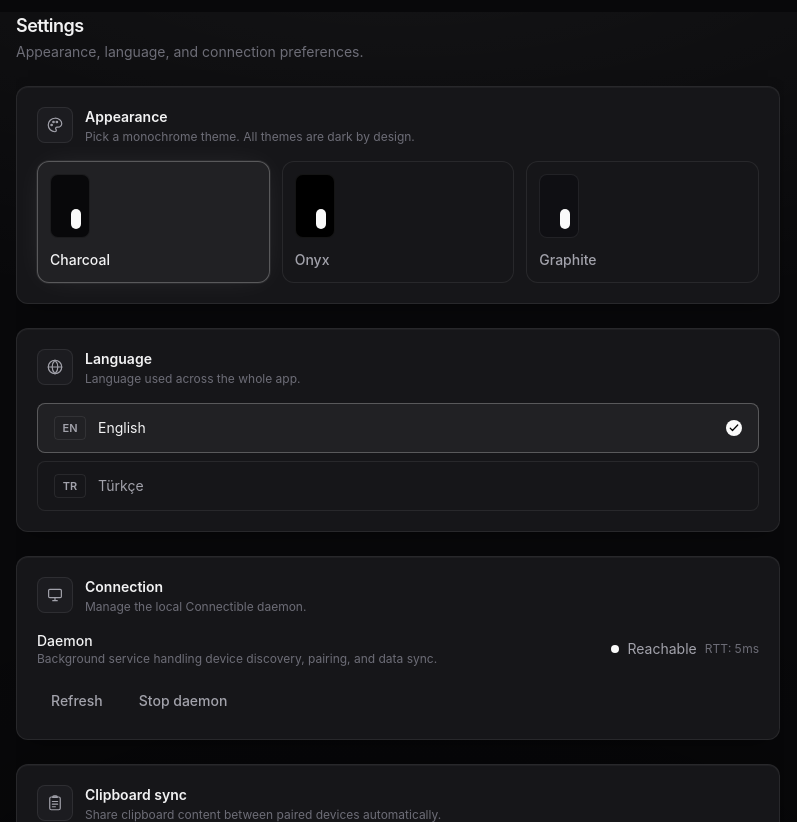
Scenario: SettingsPanel › shows an externally-managed notice when Stop had no process of its own to kill (T-X11)
The width and height of the screenshot is (797, 822).
Click the button "Stop daemon": x=183, y=701 top-left (125, 683), bottom-right (242, 719)
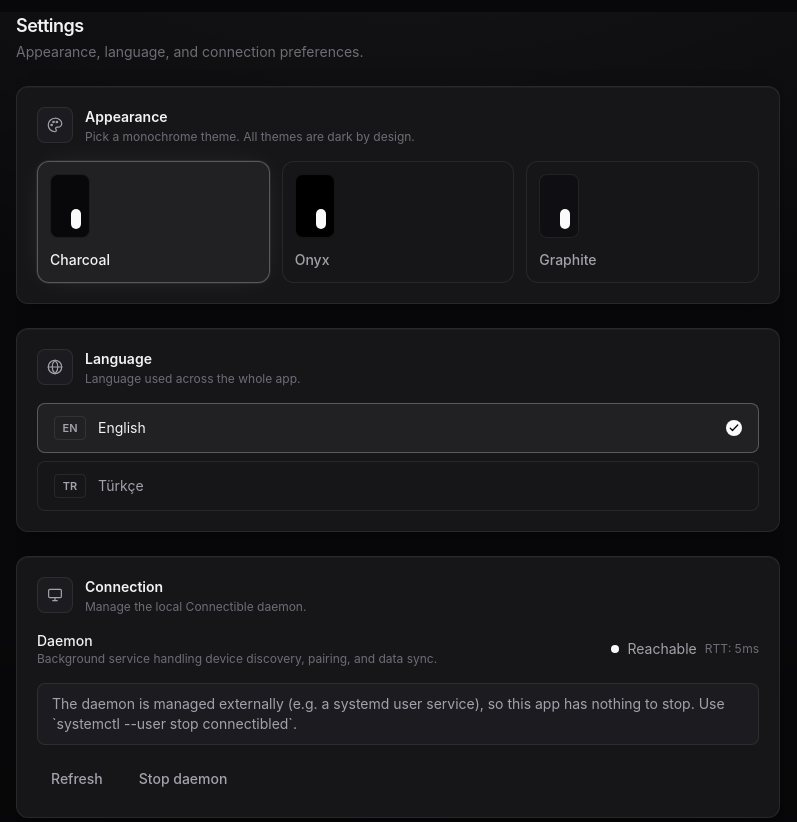
Expected: the message shows "managed externally", top-left (52, 695), bottom-right (725, 732)
